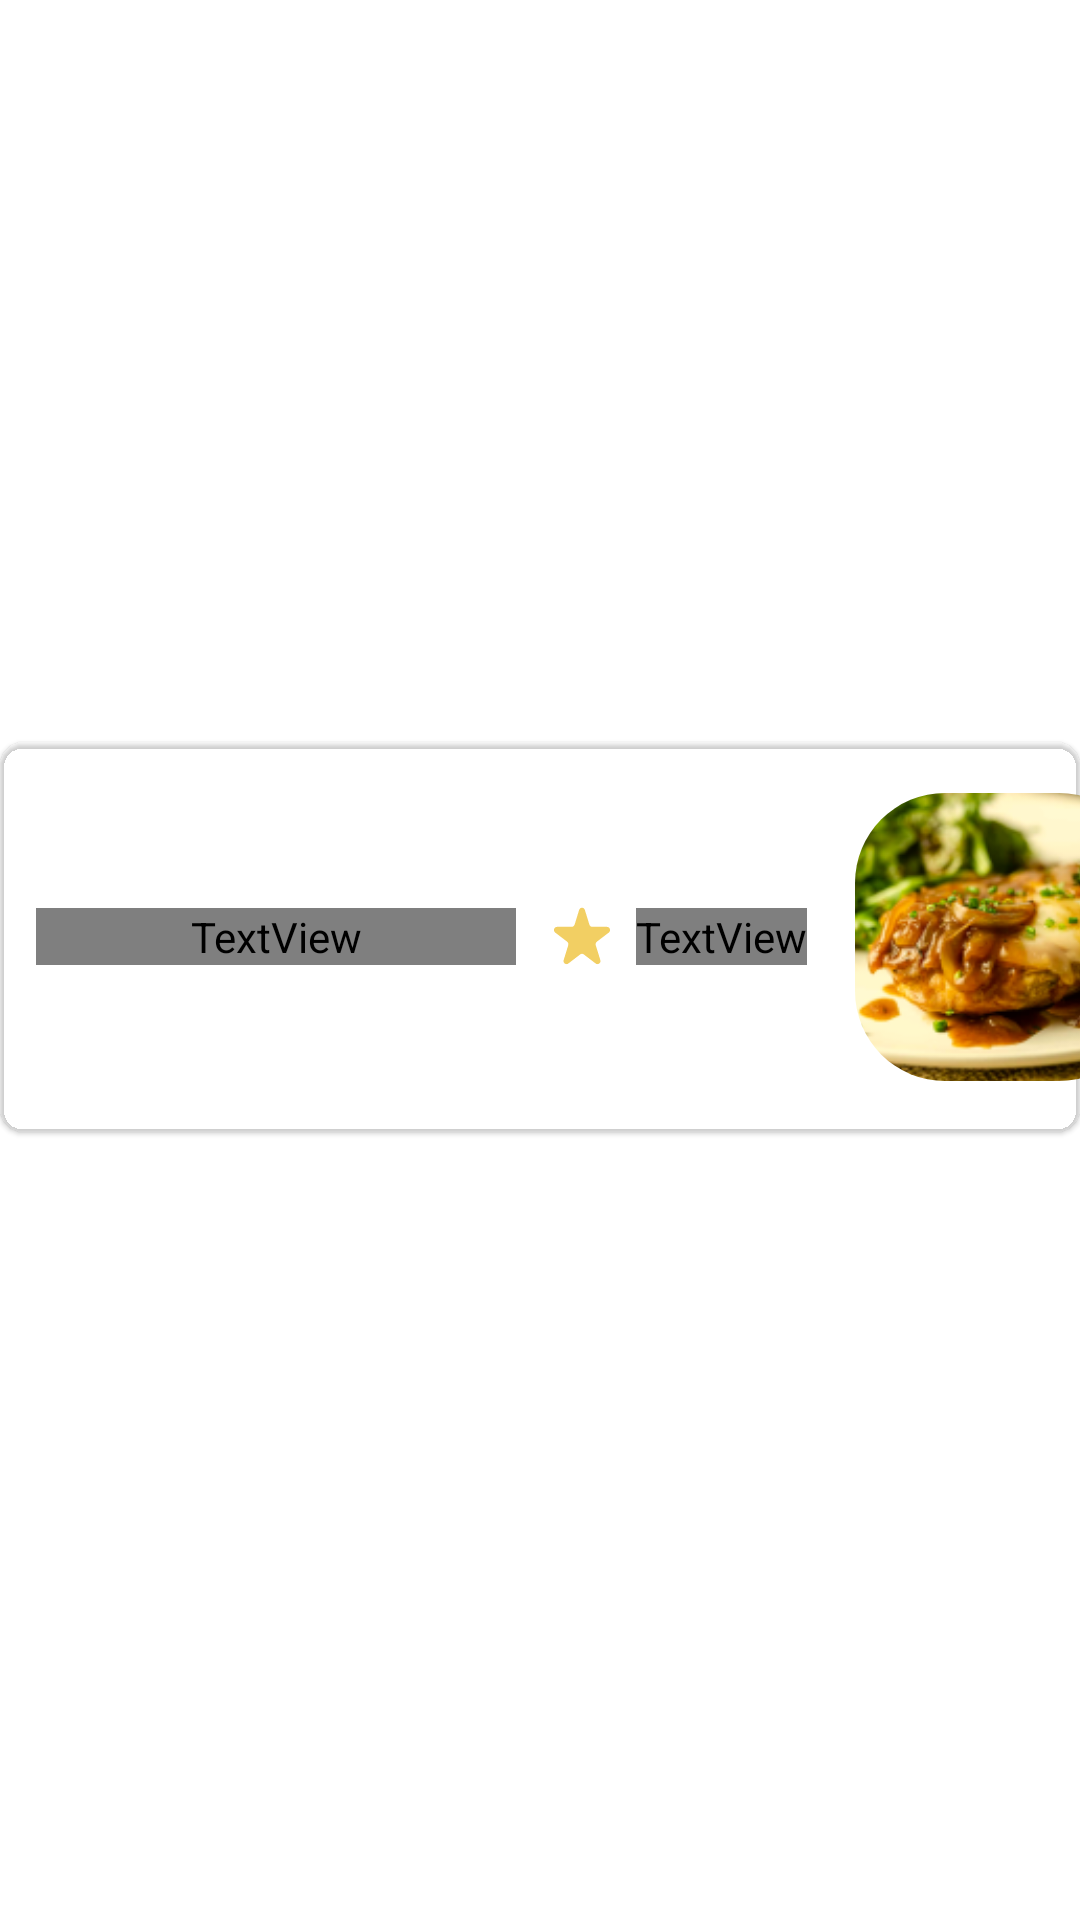

Named icons in this screenshot (1080*1920) and their centers, point (x, y):
star: point (582, 935)
